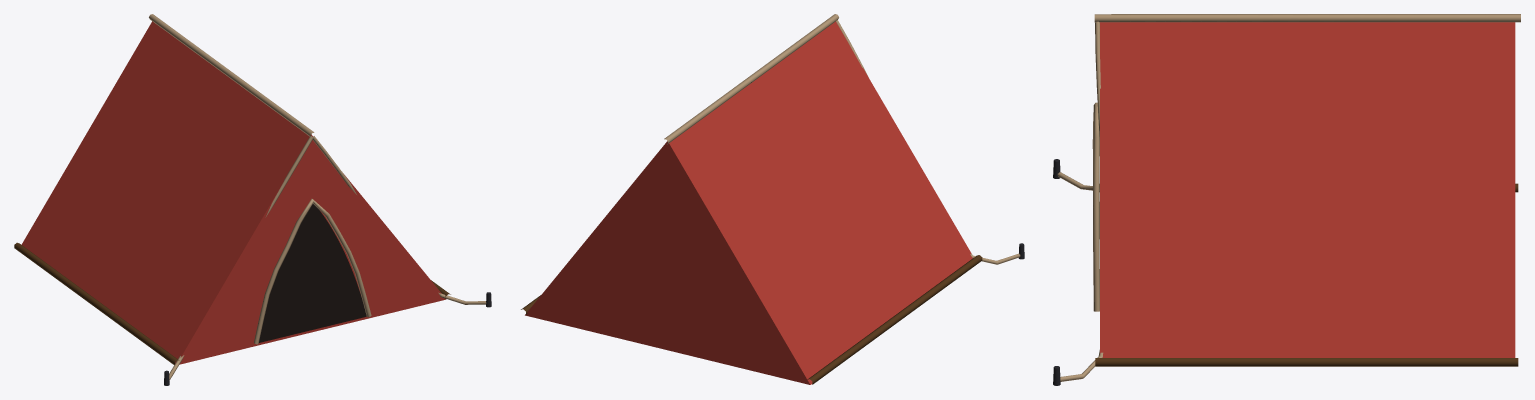
The model's file is mia-tent.glb.
The picture shows the model from 3 angles, left to right: view 1: azimuth 30°, elevation 25°; view 2: azimuth 150°, elevation 25°; view 3: azimuth 270°, elevation 25°; orthographic projection. The views are drawn at different scales.
Parts seen in each view (by area): view 1: Body_tent-shell, Body_black, Body_page-beige, Body_wood; view 2: Body_tent-shell, Body_page-beige, Body_wood; view 3: Body_tent-shell, Body_page-beige, Body_wood.
Part boxes in pixels (x1=…): Body_tent-shell: x1=21, y1=21, x2=446, y2=364; Body_black: x1=259, y1=204, x2=366, y2=342; Body_page-beige: x1=149, y1=14, x2=486, y2=380; Body_wood: x1=14, y1=242, x2=450, y2=364; Body_tent-shell: x1=525, y1=21, x2=972, y2=384; Body_page-beige: x1=664, y1=14, x2=1020, y2=264; Body_wood: x1=521, y1=255, x2=982, y2=384; Body_tent-shell: x1=1100, y1=22, x2=1515, y2=357; Body_page-beige: x1=1057, y1=14, x2=1520, y2=381; Body_wood: x1=1095, y1=183, x2=1518, y2=366.
Size of the model in its own units: 2.6 by 1.55 by 2.45.
